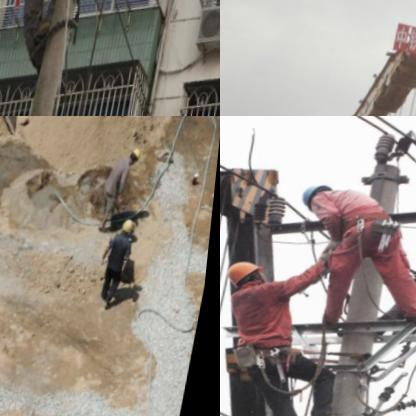helmet: (220, 257, 281, 296), (300, 181, 342, 212), (127, 142, 147, 168), (124, 215, 140, 236)
